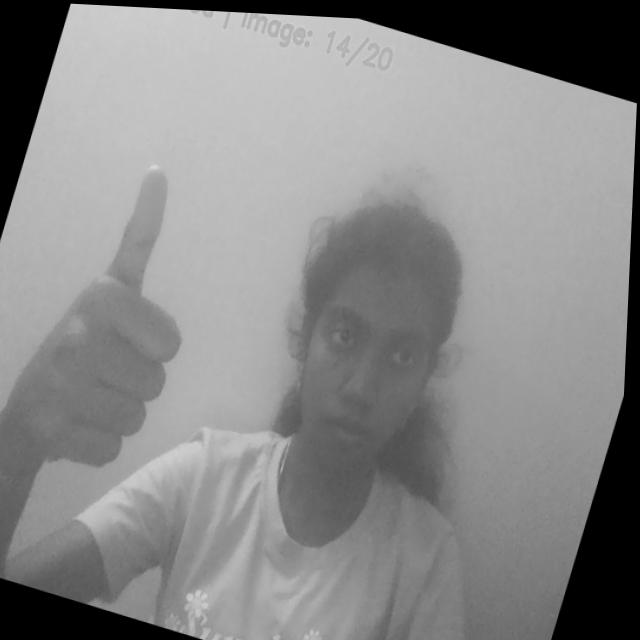Good: (0, 127, 238, 510)
